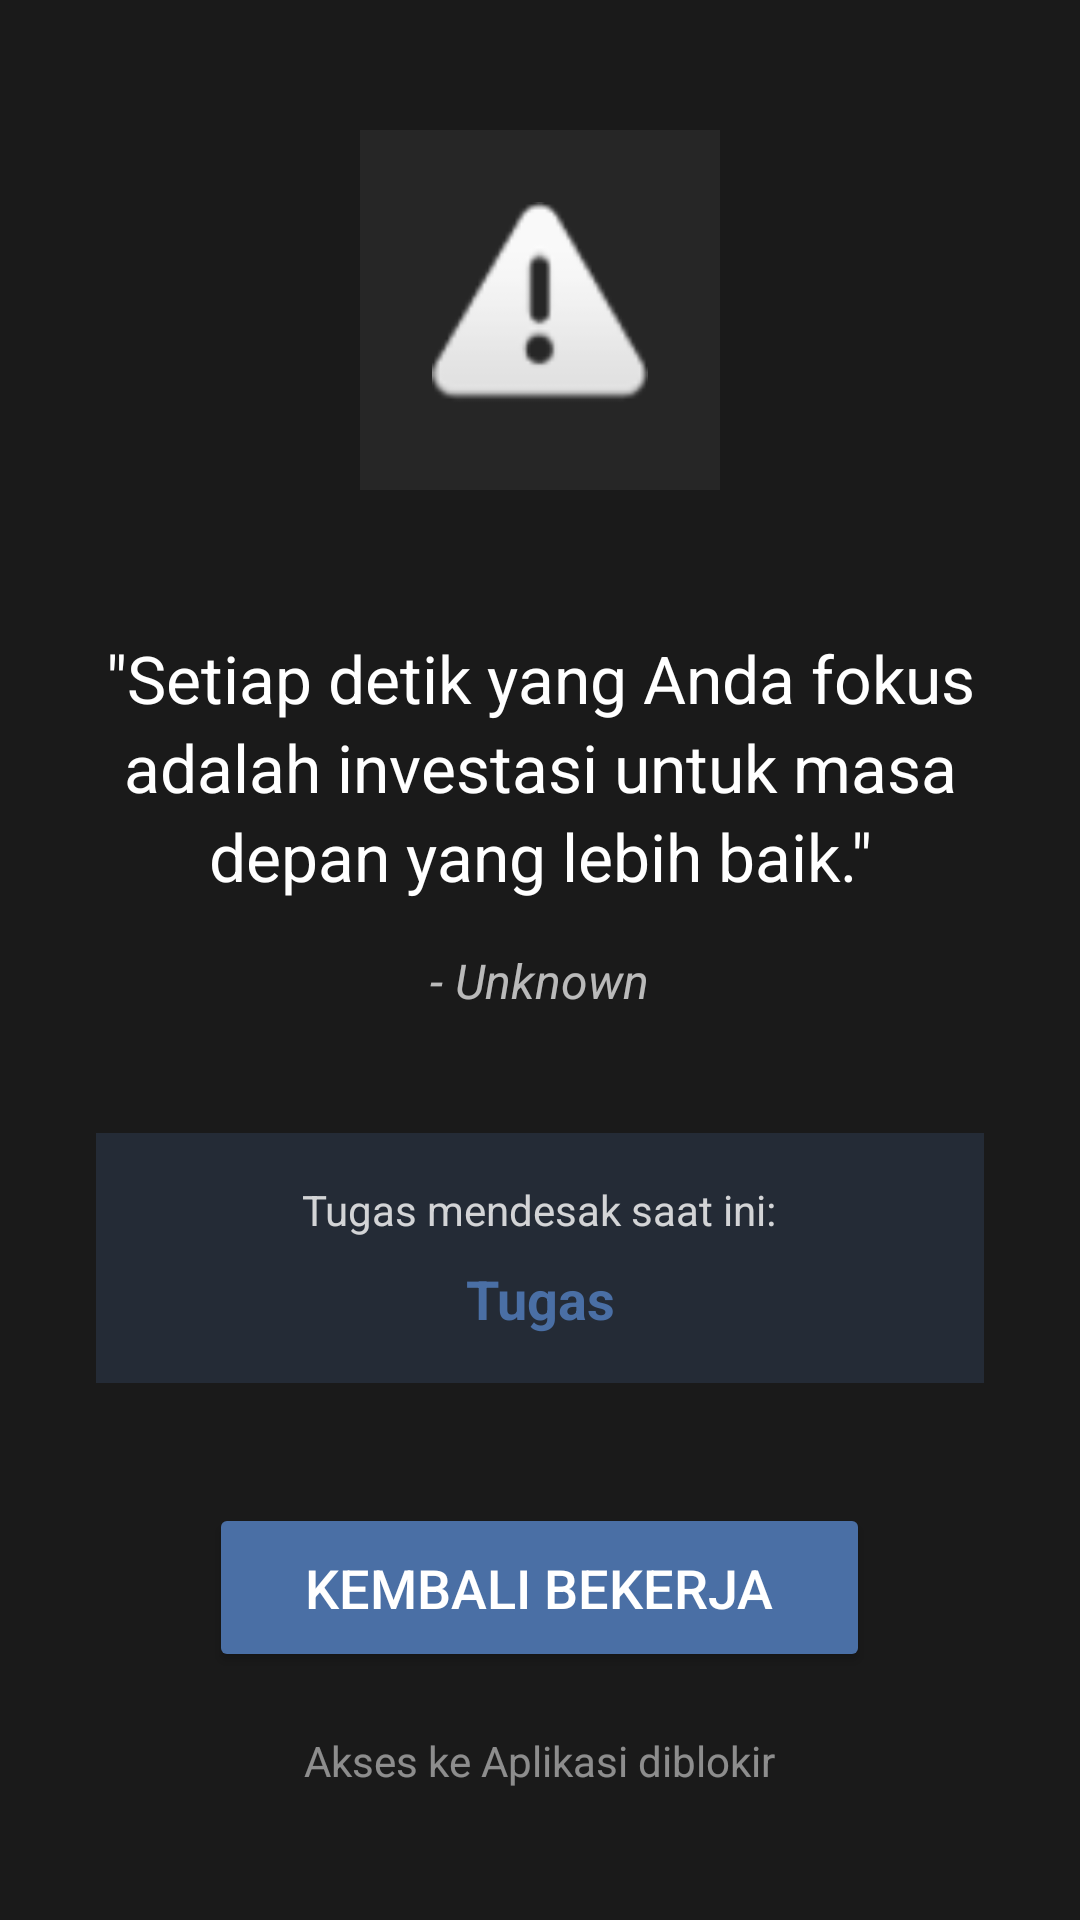

Named icons in this screenshot (1080px x 1920px) and their bounding boxes, (x1, y1, x2, y2):
alert: (432, 202, 648, 399)
